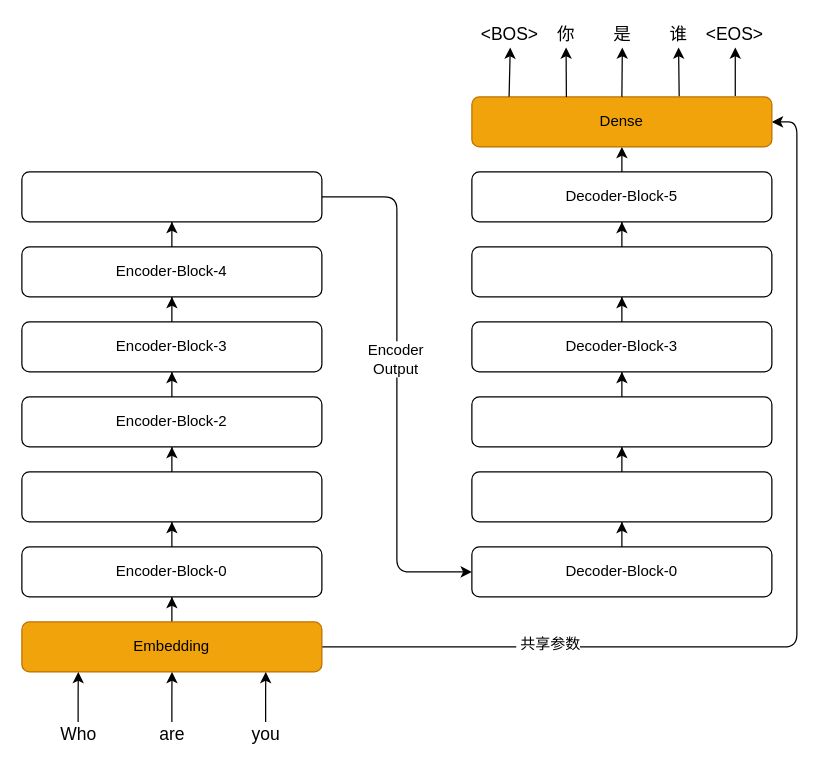
The diagram is 829 pixels wide and 768 high, and some of its shapes have lost their labels. Each missing label, with the box of its shape:
Decoder-Block-1: (471, 471, 772, 522)
Decoder-Block-2: (471, 396, 772, 447)
Decoder-Block-4: (471, 246, 772, 297)
Encoder-Block-1: (21, 471, 322, 522)
Encoder-Block-5: (21, 171, 322, 222)
